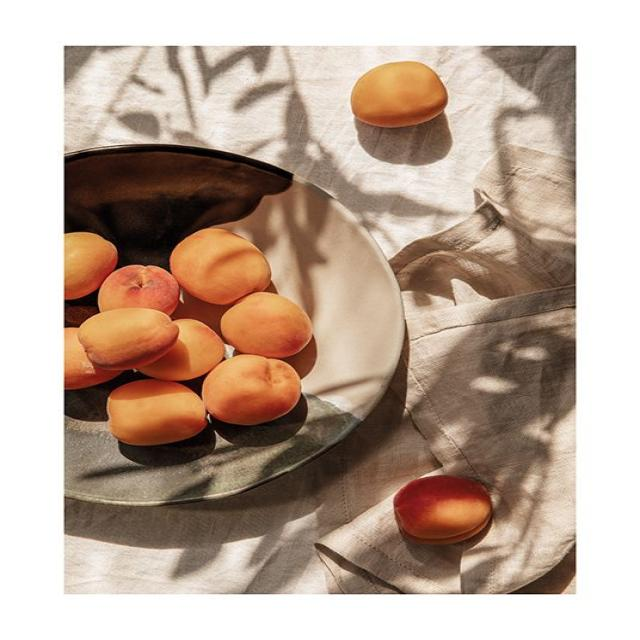kayisi: (171, 229, 275, 305), (201, 355, 301, 429), (394, 474, 493, 548), (350, 61, 449, 131), (107, 379, 208, 447), (76, 309, 178, 370), (222, 294, 312, 358), (140, 320, 223, 381), (97, 265, 181, 316), (66, 234, 119, 305), (64, 328, 125, 387)
